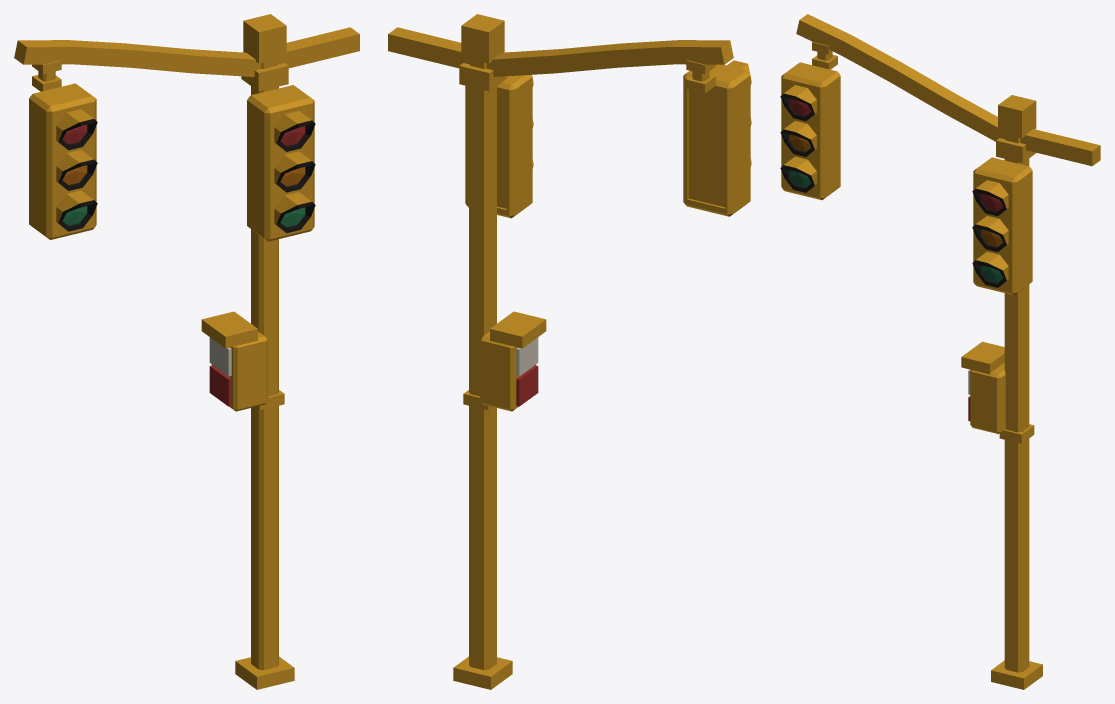
The model's file is traffic-light-b217a2.glb.
3 renders of one model, left to right at view 1: azimuth 30°, elevation 25°; view 2: azimuth 150°, elevation 25°; view 3: azimuth 330°, elevation 25°, orthographic. The views are drawn at different scales.
Visible parts, largest first — view 1: traffic-light-body; view 2: traffic-light-body; view 3: traffic-light-body.
Boxes of the visible parts, x1,y1,x2,y2 form: traffic-light-body: (14,14,359,689); traffic-light-body: (388,14,751,689); traffic-light-body: (780,14,1100,689).
Size of the model in its own units: 2.68 by 5.28 by 0.7223.
